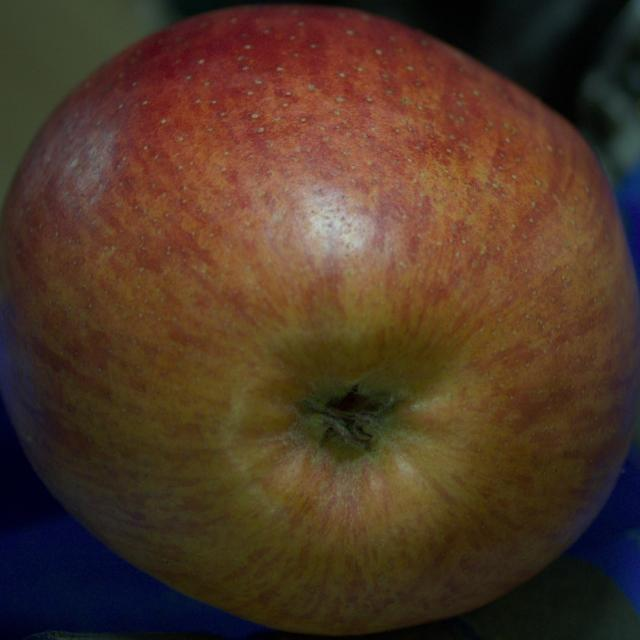apple: (0, 6, 639, 634)
